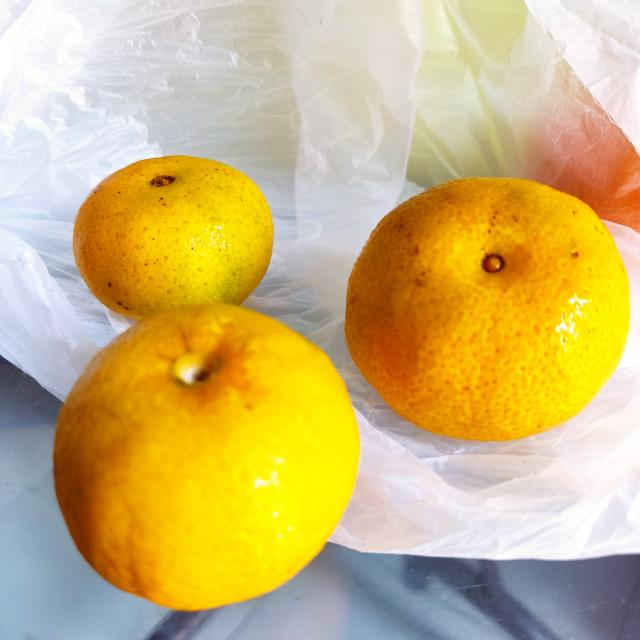orange: (49, 303, 359, 616), (344, 174, 629, 446), (70, 152, 274, 324)
